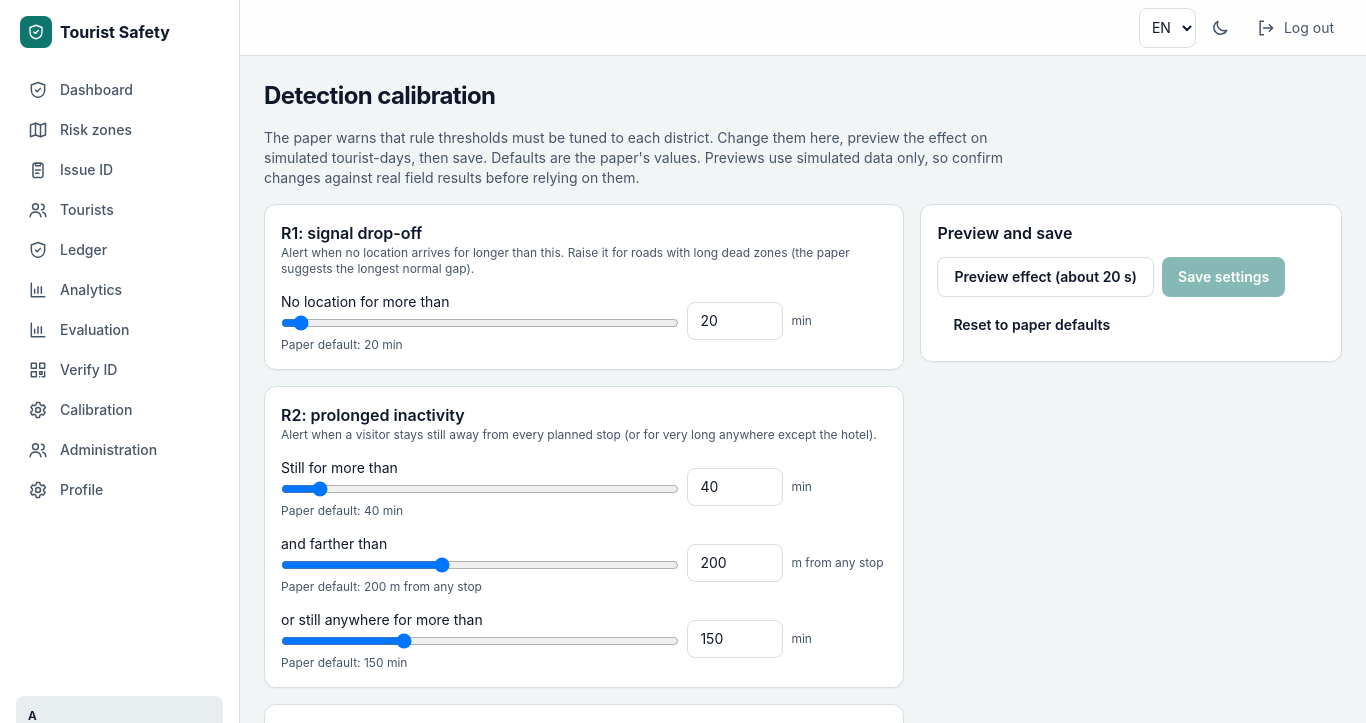
Test: the preview compares your settings with the paper defaults
Click the button "Preview effect (about 20 s)" at (1046, 277), box [937,257,1154,297]
(page scrolled)
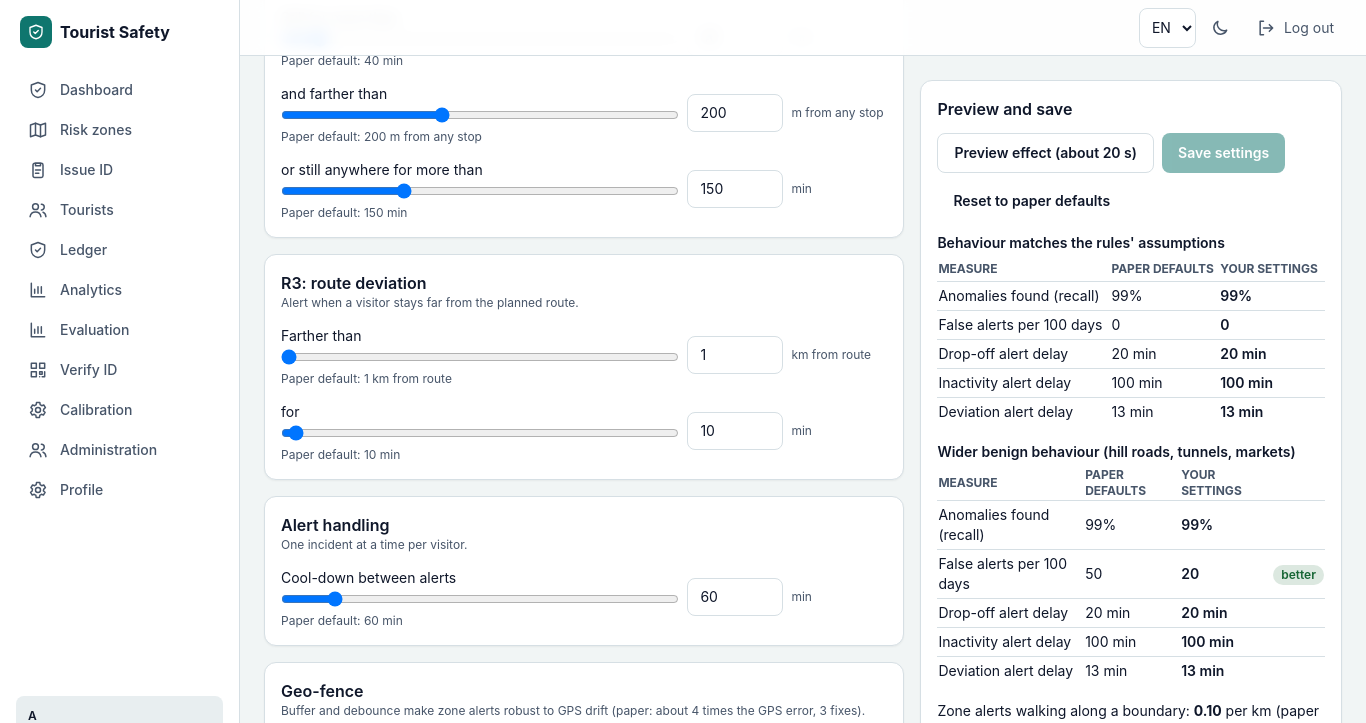
Expected: the text "better" is shown, [1273,564,1324,584]
Expected: the text "0.10" is shown, [1194,702,1222,719]
